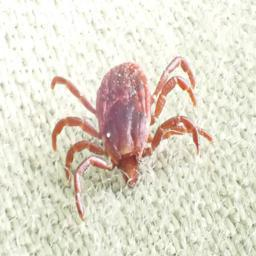Rhipicephalus sanguineus: (50, 55, 212, 223)
